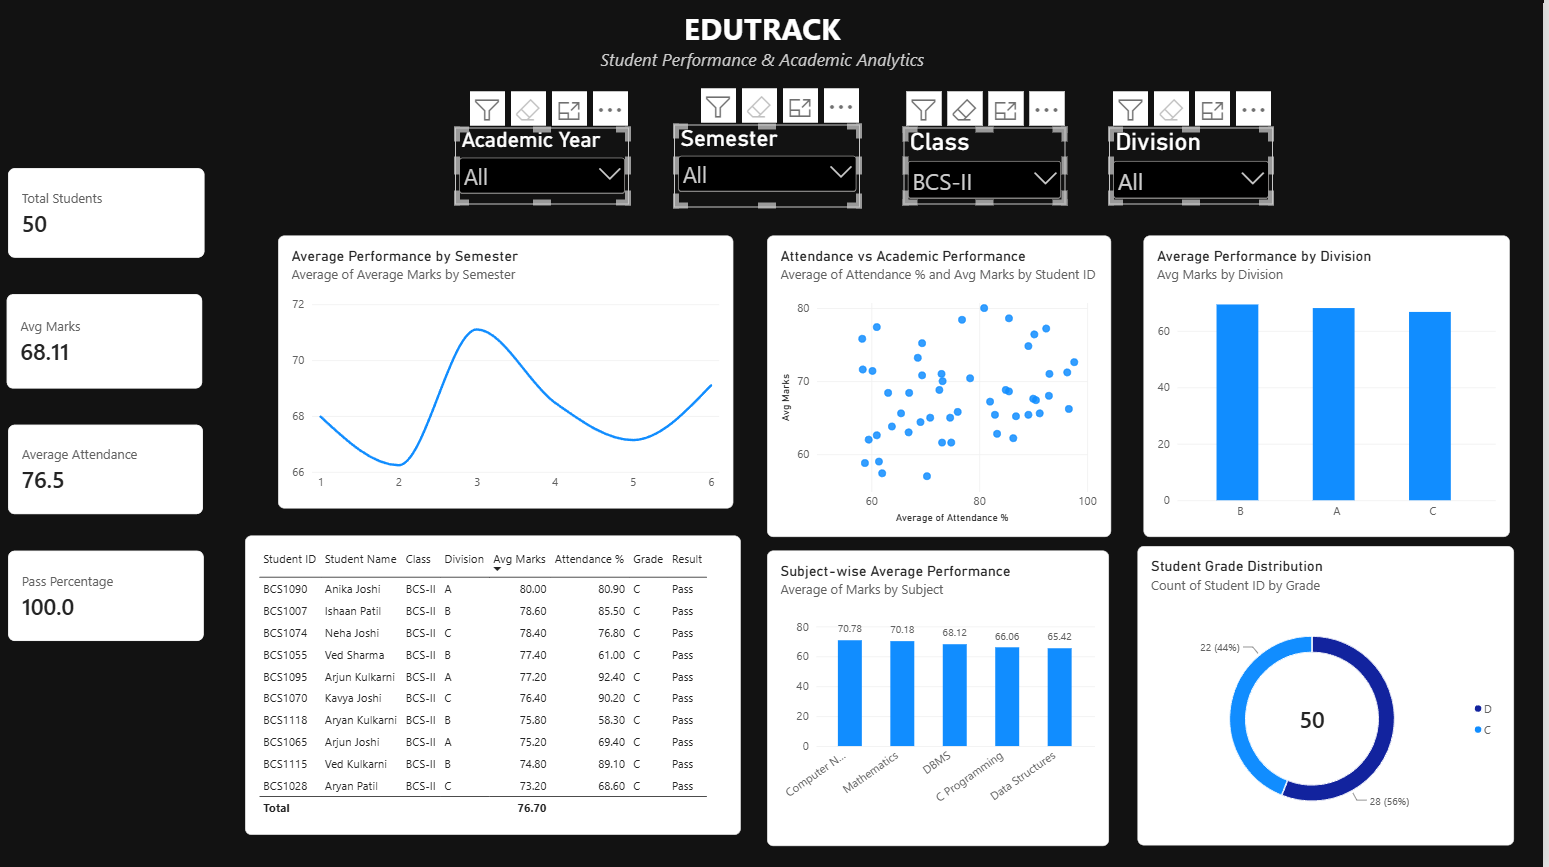

What the dashboard file says about the page in this screenshot:
{"tool":"powerbi","page":{"name":"Page 1","canvas":[1920,1080],"ordinal":0},"visuals":[{"type":"cardVisual","fields":{"Data":["Student Data.Total Students"]},"box":[22.5,215,243.3,111.5],"z":0},{"type":"cardVisual","fields":{"Data":["Student Data.Avg Marks"]},"box":[20,370.5,242.5,117.5],"z":1000},{"type":"cardVisual","fields":{"Data":["Student Data.Pass Percentage"]},"box":[22.5,687.5,242.5,112.5],"z":2000},{"type":"cardVisual","fields":{"Data":["Student Data.Average Attendance"]},"box":[22.5,532,241.3,111.5],"z":3000},{"type":"clusteredColumnChart","title":"Subject-wise Average Performance","fields":{"Category":["Subject Performance.Subject"],"Y":["Avg(Subject Performance.Marks)"]},"box":[960,687.5,422.5,365],"z":4000},{"type":"donutChart","title":"Student Grade Distribution","fields":{"Category":["Student Data.Grade"],"Y":["Count(Student Data.Student ID)"]},"box":[1417.5,682.5,465,370],"z":5000},{"type":"textbox","box":[60,17.5,1790,117.5],"z":6000},{"type":"scatterChart","title":"Attendance vs Academic Performance","fields":{"Category":["Student Data.Student ID"],"X":["Student Data.Attendance %"],"Y":["Student Data.Avg Marks"]},"box":[960,297.5,425,372.5],"z":7000},{"type":"clusteredColumnChart","title":"Average Performance by Division","fields":{"Category":["Student Data.Division"],"Y":["Student Data.Avg Marks"]},"box":[1425,297.5,452.5,372.5],"z":8000},{"type":"slicer","fields":{"Values":["Student Data.Class"]},"box":[1128.9,164.9,199.9,95.4],"z":9000},{"type":"slicer","fields":{"Values":["Subject Performance.Division"]},"box":[1383.2,164.9,202.1,95.4],"z":10000},{"type":"slicer","fields":{"Values":["Student Data.Semester"]},"box":[844.5,161.3,230,102.5],"z":11000},{"type":"slicer","fields":{"Values":["Student Data.Academic Year"]},"box":[575,165.1,215,95],"z":12000},{"type":"tableEx","fields":{"Values":["Student Data.Student ID","Student Data.Student Name","Student Data.Class","Student Data.Division","Student Data.Avg Marks","Student Data.Attendance %","Student Data.Grade","Student Data.Result"]},"box":[315,670,612.5,370],"z":13000},{"type":"lineChart","title":"Average Performance by Semester","fields":{"Category":["Student Data.Semester"],"Y":["Avg(Student Data.Average Marks)"]},"box":[355,297.5,562.5,337.5],"z":14000}]}

Visuals, with their boxes in screenshot pixels (x1, y1, x2, y2), scaled from the page's 1920x1080 canvas onto the 1549x867 screenshot:
cardVisual - Student Data.Total Students: [18,173,214,262]
cardVisual - Student Data.Avg Marks: [16,297,212,392]
cardVisual - Student Data.Pass Percentage: [18,552,214,642]
cardVisual - Student Data.Average Attendance: [18,427,213,517]
"Subject-wise Average Performance" clusteredColumnChart: [774,552,1115,845]
"Student Grade Distribution" donutChart: [1144,548,1519,845]
textbox: [48,14,1493,108]
"Attendance vs Academic Performance" scatterChart: [774,239,1117,538]
"Average Performance by Division" clusteredColumnChart: [1150,239,1515,538]
slicer - Student Data.Class: [911,132,1072,209]
slicer - Subject Performance.Division: [1116,132,1279,209]
slicer - Student Data.Semester: [681,129,867,212]
slicer - Student Data.Academic Year: [464,133,637,209]
tableEx - Student Data.Student ID x Student Data.Student Name: [254,538,748,835]
"Average Performance by Semester" lineChart: [286,239,740,510]
